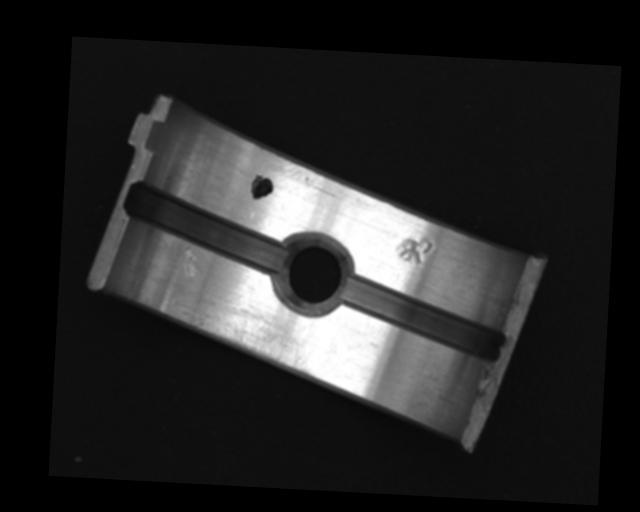blot: (249, 173, 274, 201)
bruise: (394, 234, 434, 266), (181, 247, 199, 279)
gap: (122, 180, 290, 271), (339, 274, 508, 361)
hole: (269, 231, 354, 316)
scratch: (180, 302, 320, 378)
